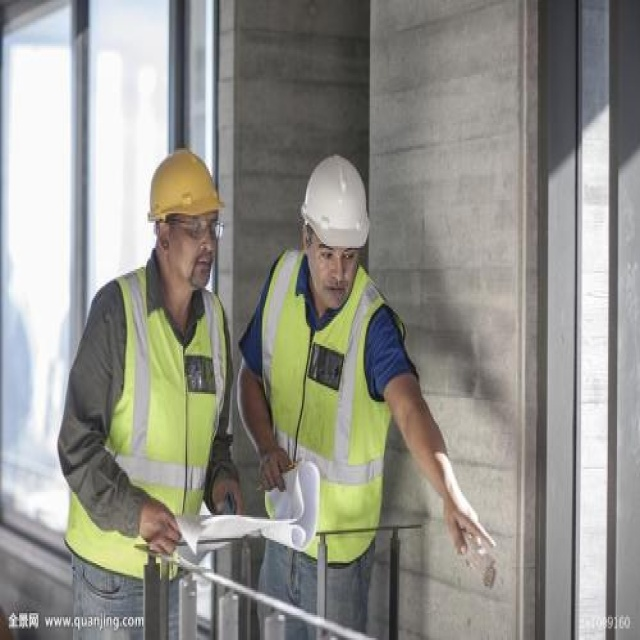Helmet: (126, 132, 244, 310), (296, 146, 376, 312)
Reflective vest: (72, 264, 228, 582), (261, 247, 406, 564)
